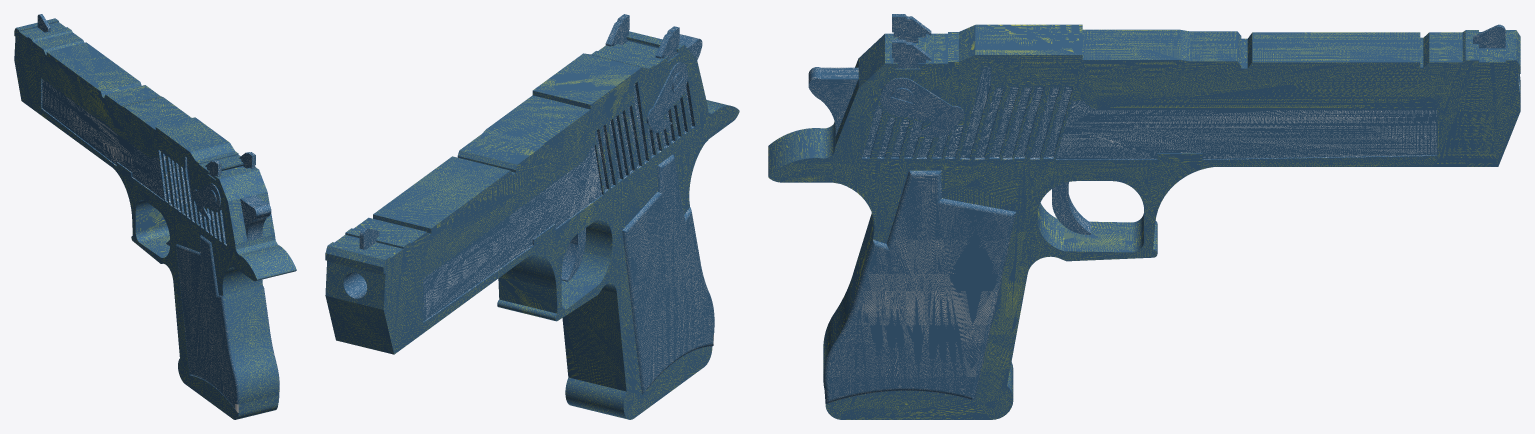
3 renders of one model, left to right at view 1: azimuth 30°, elevation 25°; view 2: azimuth 150°, elevation 25°; view 3: azimuth 270°, elevation 25°, orthographic. The views are drawn at different scales.
Visible parts, largest first — view 1: mesh1_mesh1-geometry; view 2: mesh1_mesh1-geometry; view 3: mesh1_mesh1-geometry.
Boxes of the visible parts, box(x1,y1,x2,y2) form: mesh1_mesh1-geometry: box(14, 14, 296, 419); mesh1_mesh1-geometry: box(325, 14, 739, 419); mesh1_mesh1-geometry: box(768, 14, 1520, 419).
Bounding box in the file's own units: 0.0909 × 0.487 × 0.8686.
